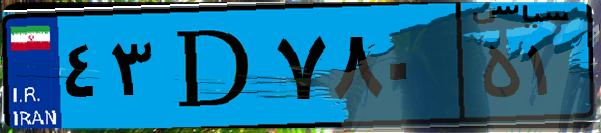0: (385, 28, 445, 110)
1: (525, 38, 570, 115)
3: (110, 28, 158, 98)
4: (57, 26, 110, 100)
5: (475, 38, 525, 113)
7: (270, 28, 330, 110)
8: (330, 28, 385, 110)
D: (158, 12, 270, 120)
